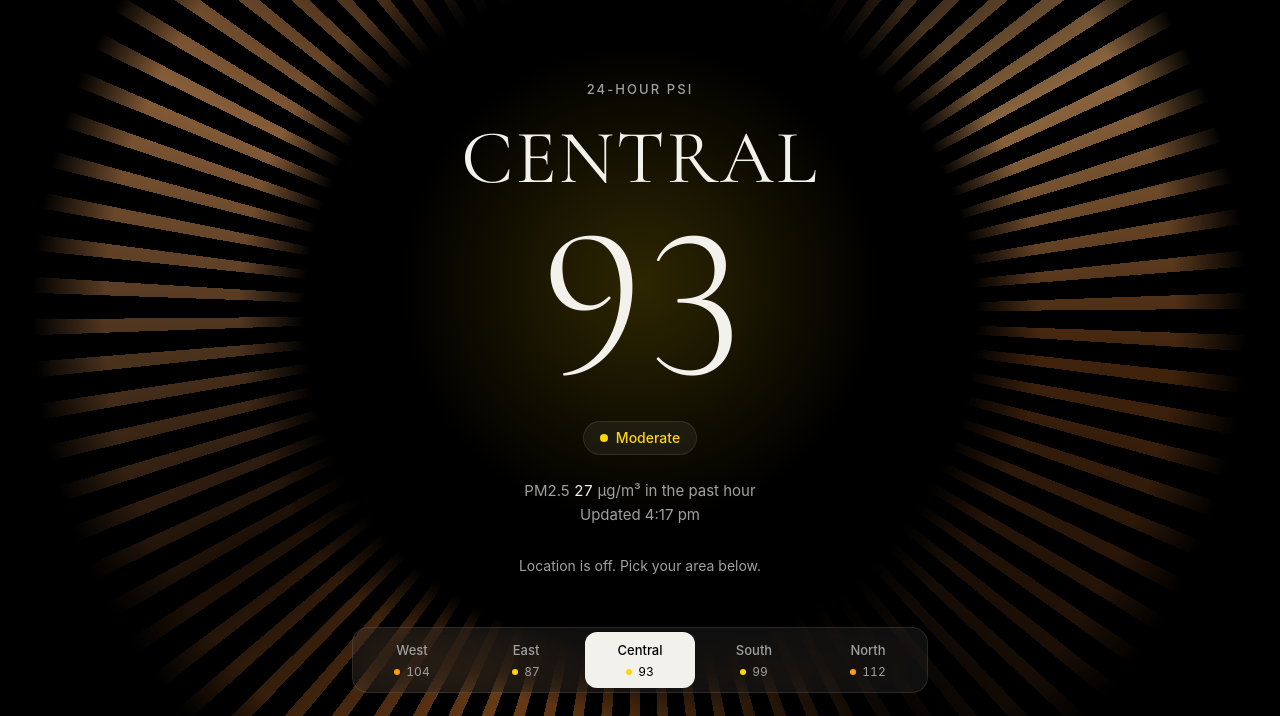
Test: PsiApp › hides the location note once the user picks a region
This screenshot has width=1280, height=716.
Expected: the panel is shown, top-left (461, 40), bottom-right (819, 527)
Click the tab "East 87". click: (526, 660)
box: top-left (471, 632), bottom-right (581, 688)
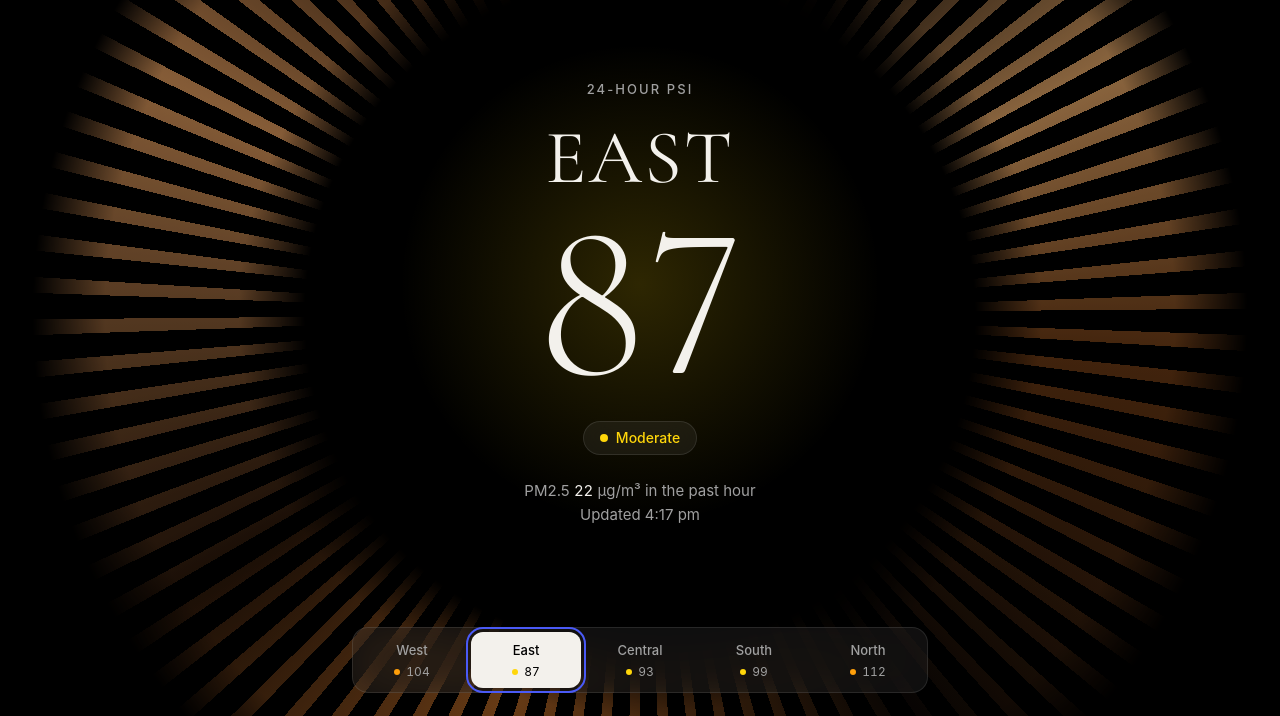
Expected: the text "Location is off. Pick your area below." is gone
